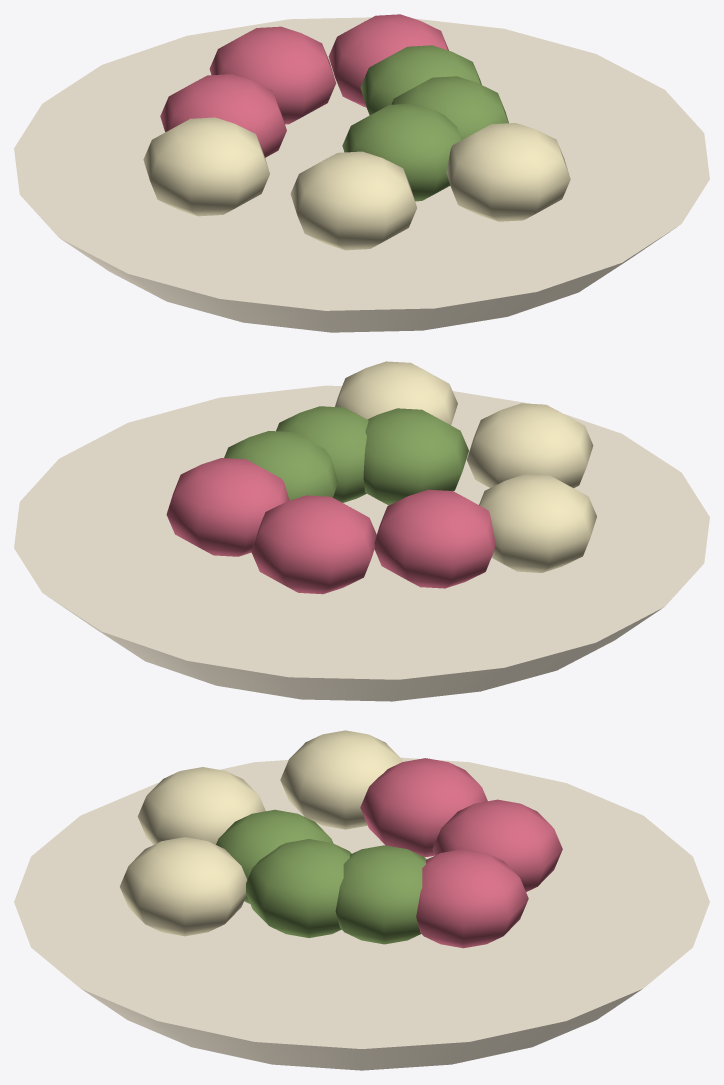
File: crispSalad.glb
The picture shows the model from 3 angles, top to bottom: view 1: azimuth 30°, elevation 25°; view 2: azimuth 150°, elevation 25°; view 3: azimuth 270°, elevation 25°; orthographic projection.
Size of the model in its own units: 0.96 by 0.198 by 0.96.
